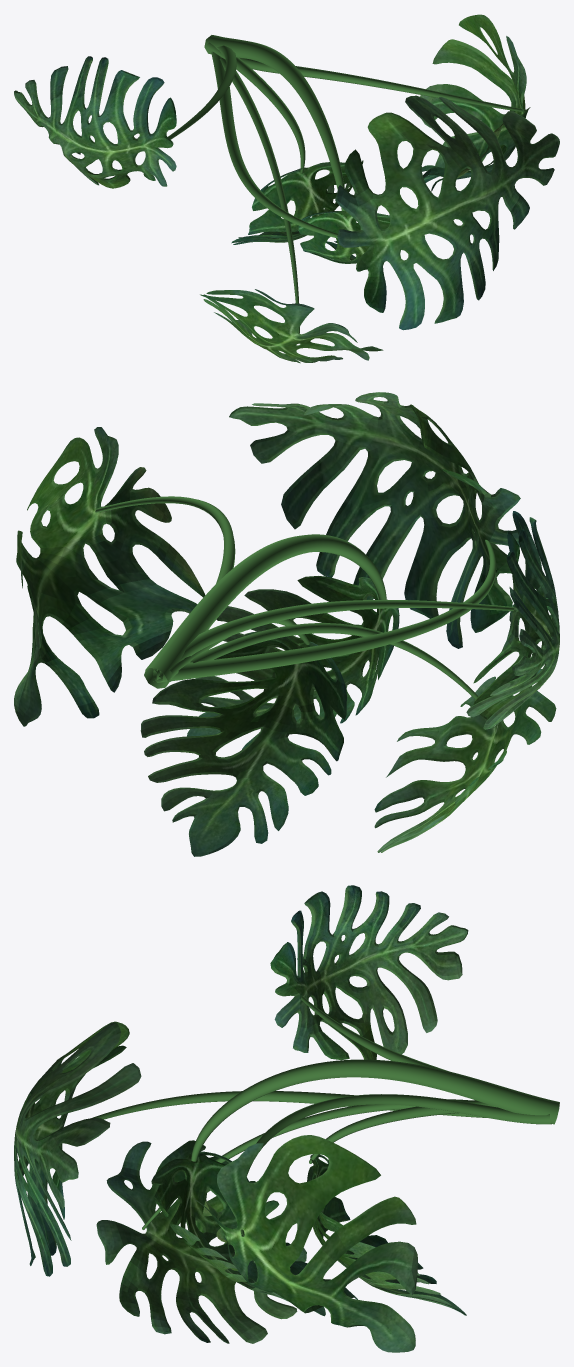
The model's file is monstera.obj.
The picture shows the model from 3 angles, top to bottom: view 1: azimuth 30°, elevation 25°; view 2: azimuth 150°, elevation 25°; view 3: azimuth 270°, elevation 25°; orthographic projection. The views are drawn at different scales.
Parts seen in each view (by area): view 1: 6L_004; view 2: 6L_004; view 3: 6L_004.
Boxes of the visible parts, x1,y1,x2,y2 form: 6L_004: [14, 14, 559, 363]; 6L_004: [14, 392, 559, 856]; 6L_004: [14, 885, 559, 1352].
Bounding box in the file's own units: 3.86 × 2.59 × 3.46.
